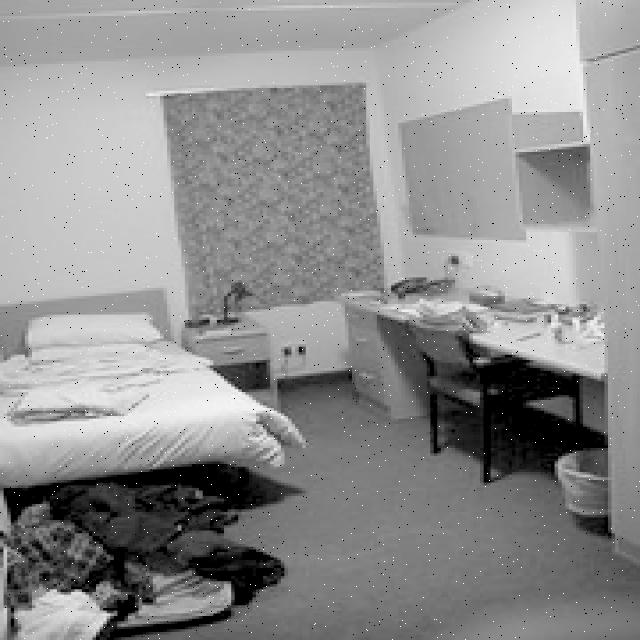bed: (10, 285, 226, 489)
